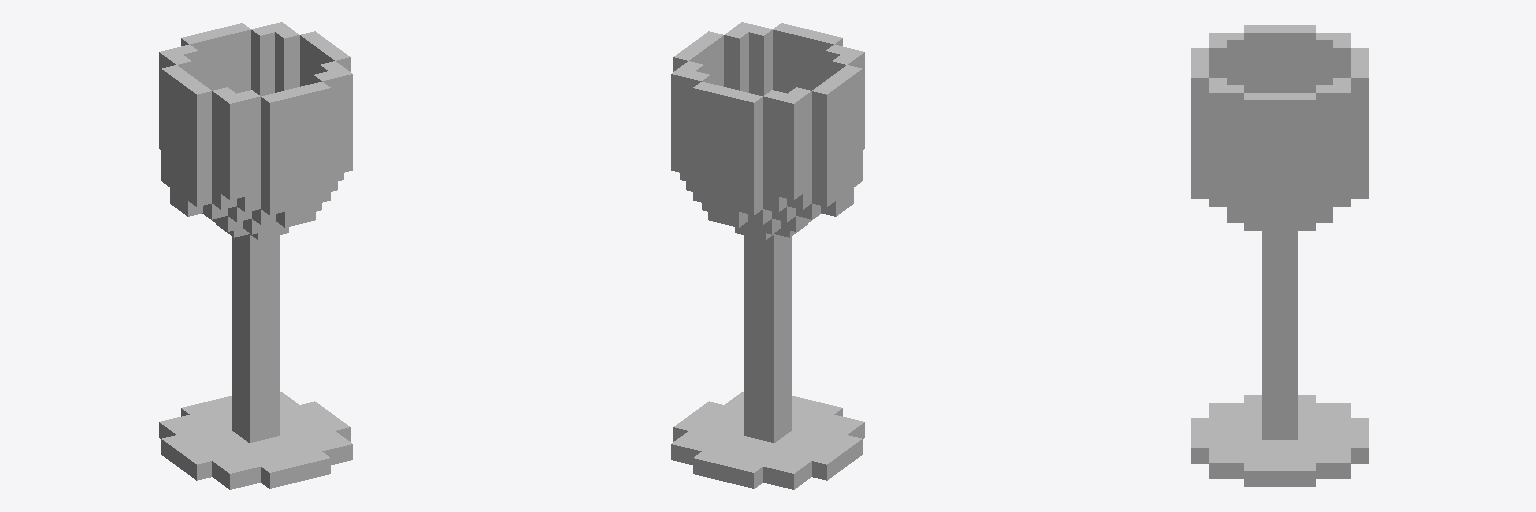
Rendered from glass of Something very bad-1.obj.
3 renders of one model, left to right at view 1: azimuth 30°, elevation 25°; view 2: azimuth 150°, elevation 25°; view 3: azimuth 270°, elevation 25°, orthographic.
Visible parts, largest first — view 1: object 1; view 2: object 1; view 3: object 1.
Boxes of the visible parts, <box> form: object 1: <box>159,22,352,489</box>; object 1: <box>671,22,864,489</box>; object 1: <box>1191,25,1368,486</box>.
Size of the model in its own units: 4 by 9.6 by 4.